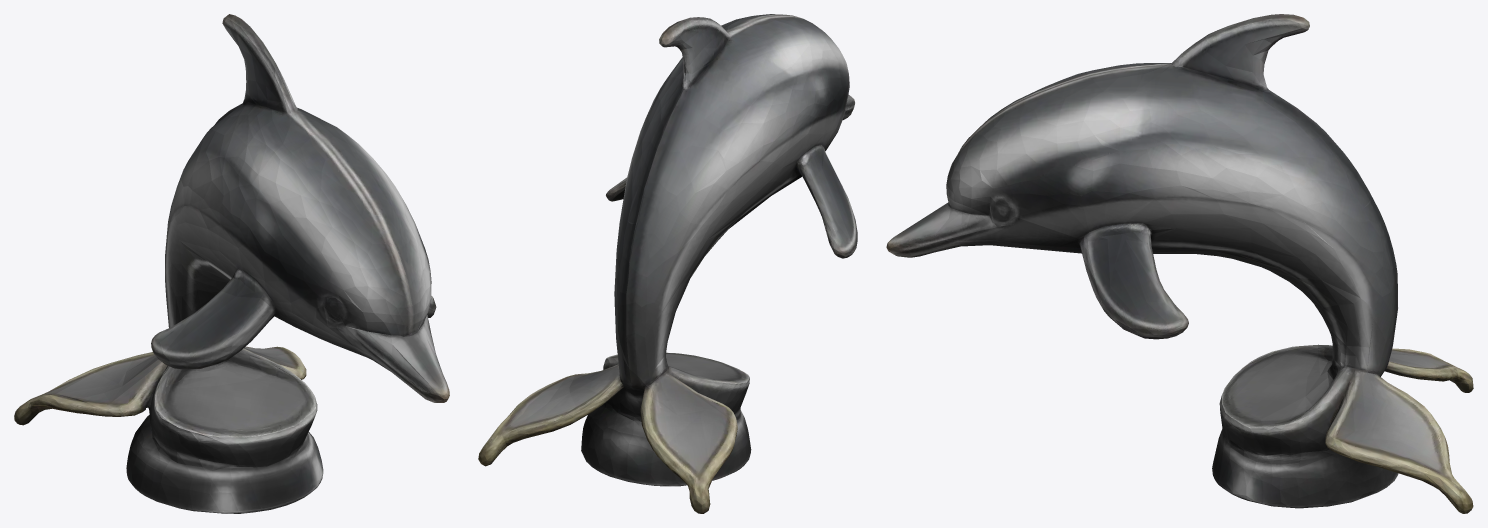
Rendered from dolphin.glb.
3 views of the same model, side by side, from view 1: azimuth 30°, elevation 25°; view 2: azimuth 150°, elevation 25°; view 3: azimuth 270°, elevation 25° (orthographic). The views are drawn at different scales.
Parts seen in each view (by area): view 1: world; view 2: world; view 3: world.
Part boxes in pixels (bbox=[...]): world: bbox=[14, 14, 449, 513]; world: bbox=[478, 14, 857, 513]; world: bbox=[886, 14, 1473, 513].
Bounding box in the file's own units: 0.5193 × 0.8569 × 0.9994.
1 material, 1 textured.
